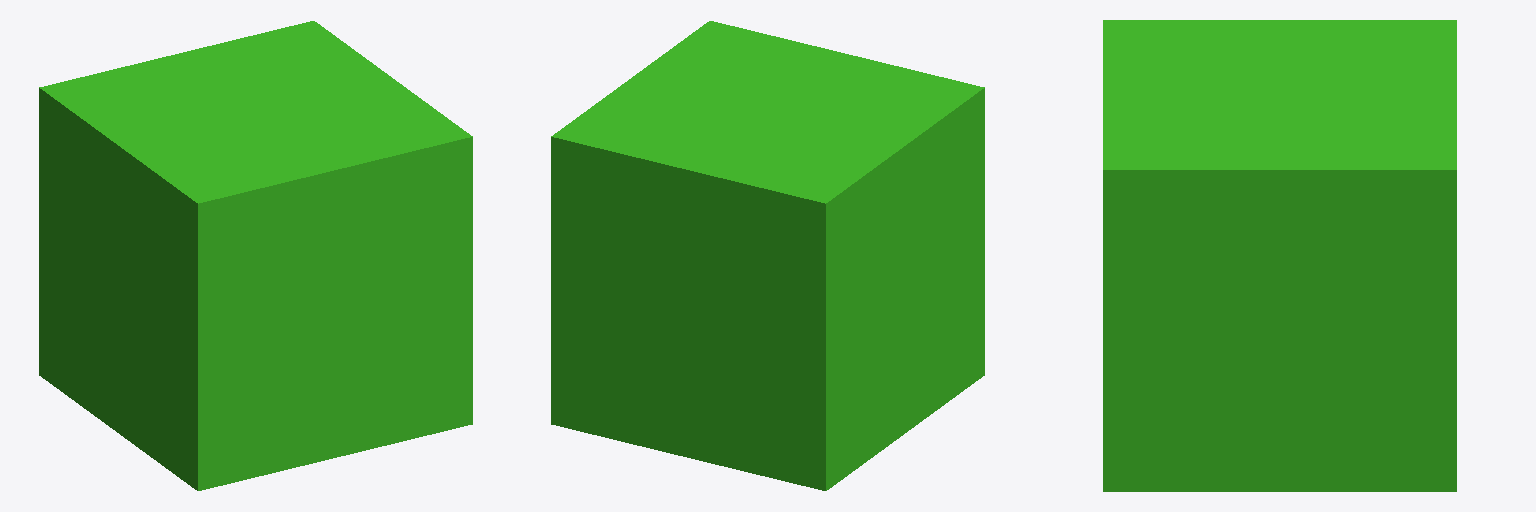
robot.urdf — cube:
<?xml version="1.0" ?>
<robot name="cube">
	<link name="base_link">
		<visual>
			<origin rpy="0 0 0.0" xyz="0 0 0"/>
      		<geometry>
                <box size="1 1 1"/>
      		</geometry>
            <material name="green">
                <color rgba="0.3 0.8 0.2 1"/>
            </material>
		</visual>
		<collision>
			<origin rpy="0 0 0.0" xyz="0 0 0"/>
      		<geometry>
                <box size="1 1 1"/>
      		</geometry>
		</collision>
		<contact>
			<friction_anchor/>
			<lateral_friction value="0.5"/>
			<spinning_friction value="0"/>
		</contact>
        <inertial>
			<origin rpy="0 0 0" xyz="0 0 0"/>
            <mass value="0.1"/>
            <inertia ixx="0.01" ixy="0" ixz="0" iyy="0.01" iyz="0" izz="0.01"/>
        </inertial>
  	</link>
</robot>

--- Render facts (derived) ---
The picture shows the robot from 3 angles, left to right: view 1: azimuth 30°, elevation 25°; view 2: azimuth 150°, elevation 25°; view 3: azimuth 270°, elevation 25°; orthographic projection.
Robot: cube — 1 links, 0 joints (none); root link base_link; default pose: all joints at 0.
Links seen in each view (by area): view 1: base_link; view 2: base_link; view 3: base_link.
Boxes of the visible links, x1,y1,x2,y2 form: base_link: (39, 21, 472, 490); base_link: (551, 21, 984, 490); base_link: (1103, 20, 1456, 491).
Bounding box of the posed robot: 1 × 1 × 1 m (x, y, z).
Geometry: primitives only (box / cylinder / sphere), no mesh files.